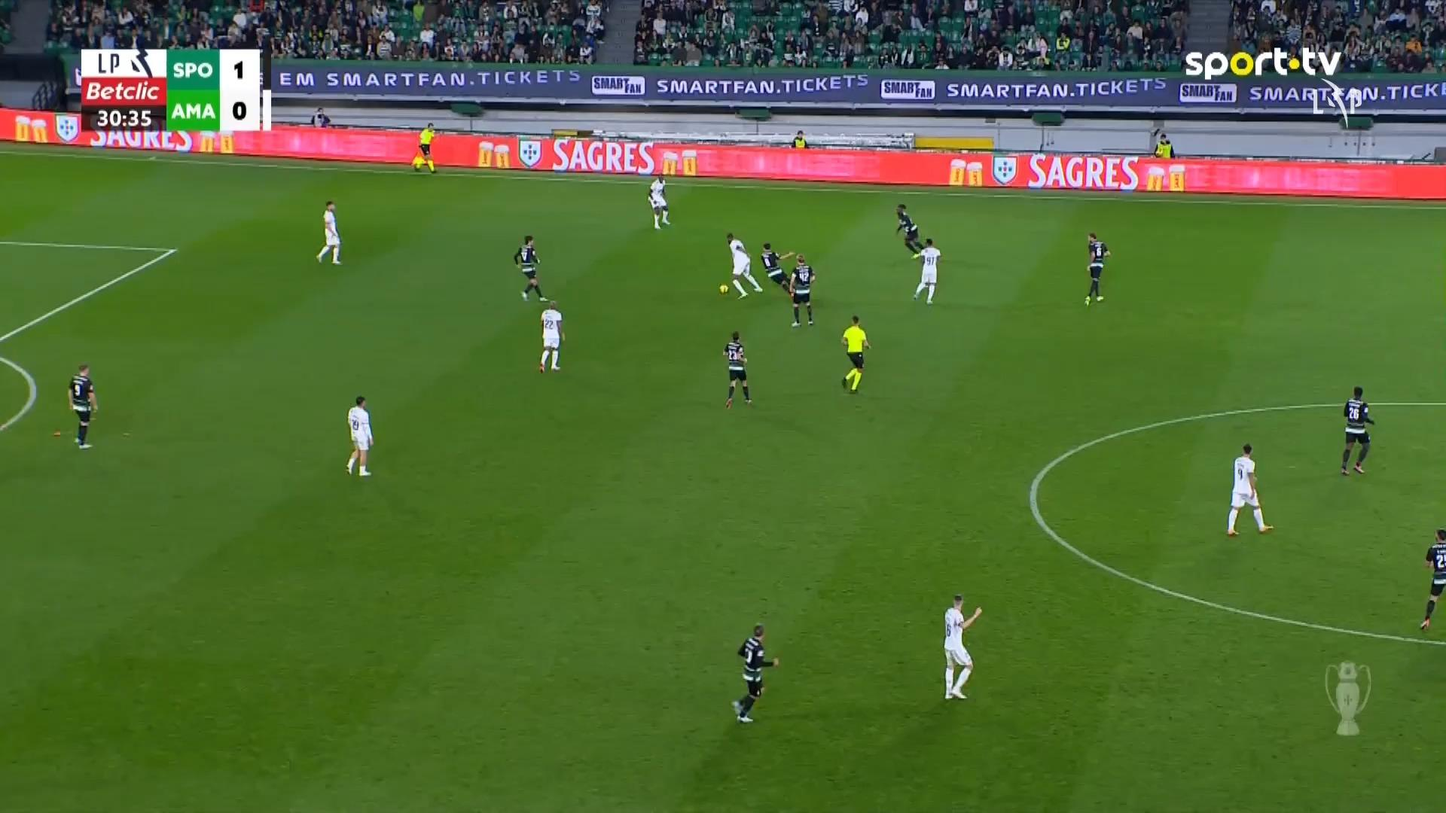ball: (718, 284, 728, 294)
player: (731, 623, 779, 723), (1225, 443, 1274, 536), (942, 593, 982, 699), (1340, 385, 1374, 475), (1418, 528, 1444, 631), (67, 363, 98, 449), (726, 232, 763, 300), (344, 394, 374, 476), (512, 234, 547, 302), (722, 330, 752, 409), (788, 254, 816, 327), (911, 237, 941, 304), (760, 241, 795, 296), (538, 299, 564, 373), (1084, 232, 1110, 306), (316, 200, 342, 265), (895, 202, 922, 259), (646, 175, 671, 230)
referee: (840, 314, 870, 393), (411, 121, 436, 172)
